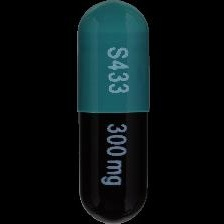69189-0410: (0, 0, 224, 224)
